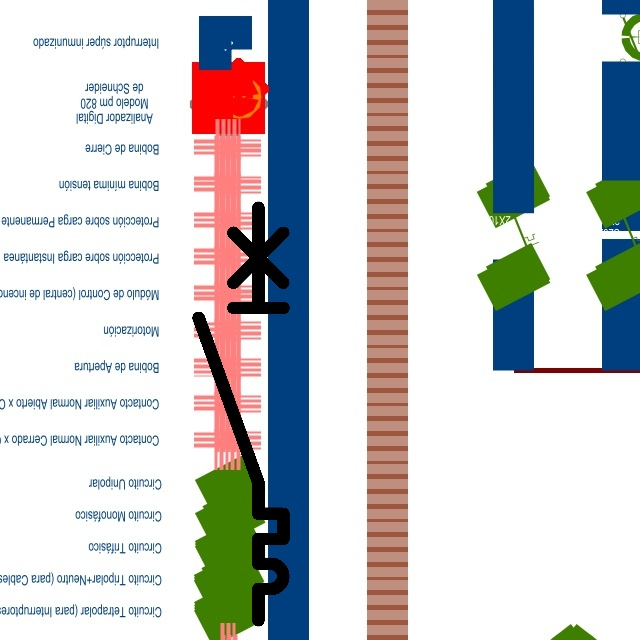interruptor_termomagnetico: (188, 197, 294, 631)
